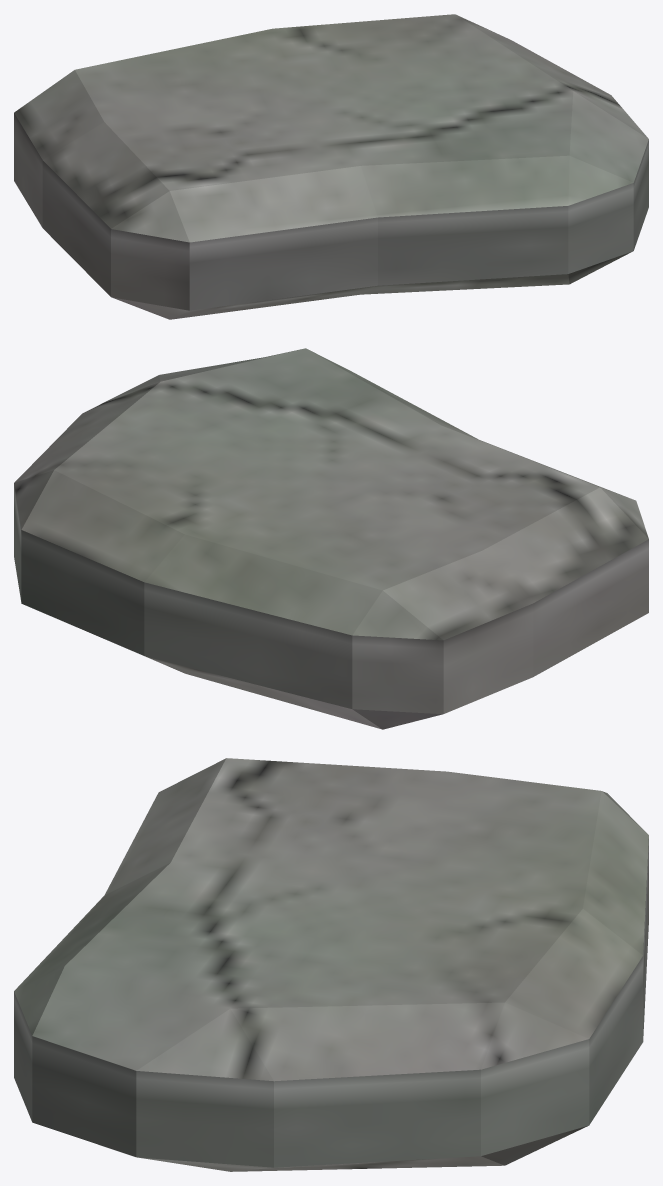
The model's file is Stone_03.fbx.
3 views of the same model, one above another, from view 1: azimuth 30°, elevation 25°; view 2: azimuth 150°, elevation 25°; view 3: azimuth 270°, elevation 25° (orthographic). The views are drawn at different scales.
Visible parts, largest first — view 1: Stone_03; view 2: Stone_03; view 3: Stone_03.
Boxes of the visible parts, x1,y1,x2,y2 form: Stone_03: (14,14,648,319); Stone_03: (14,348,648,729); Stone_03: (14,758,648,1171).
Size of the model in its own units: 126 by 30.31 by 107.
